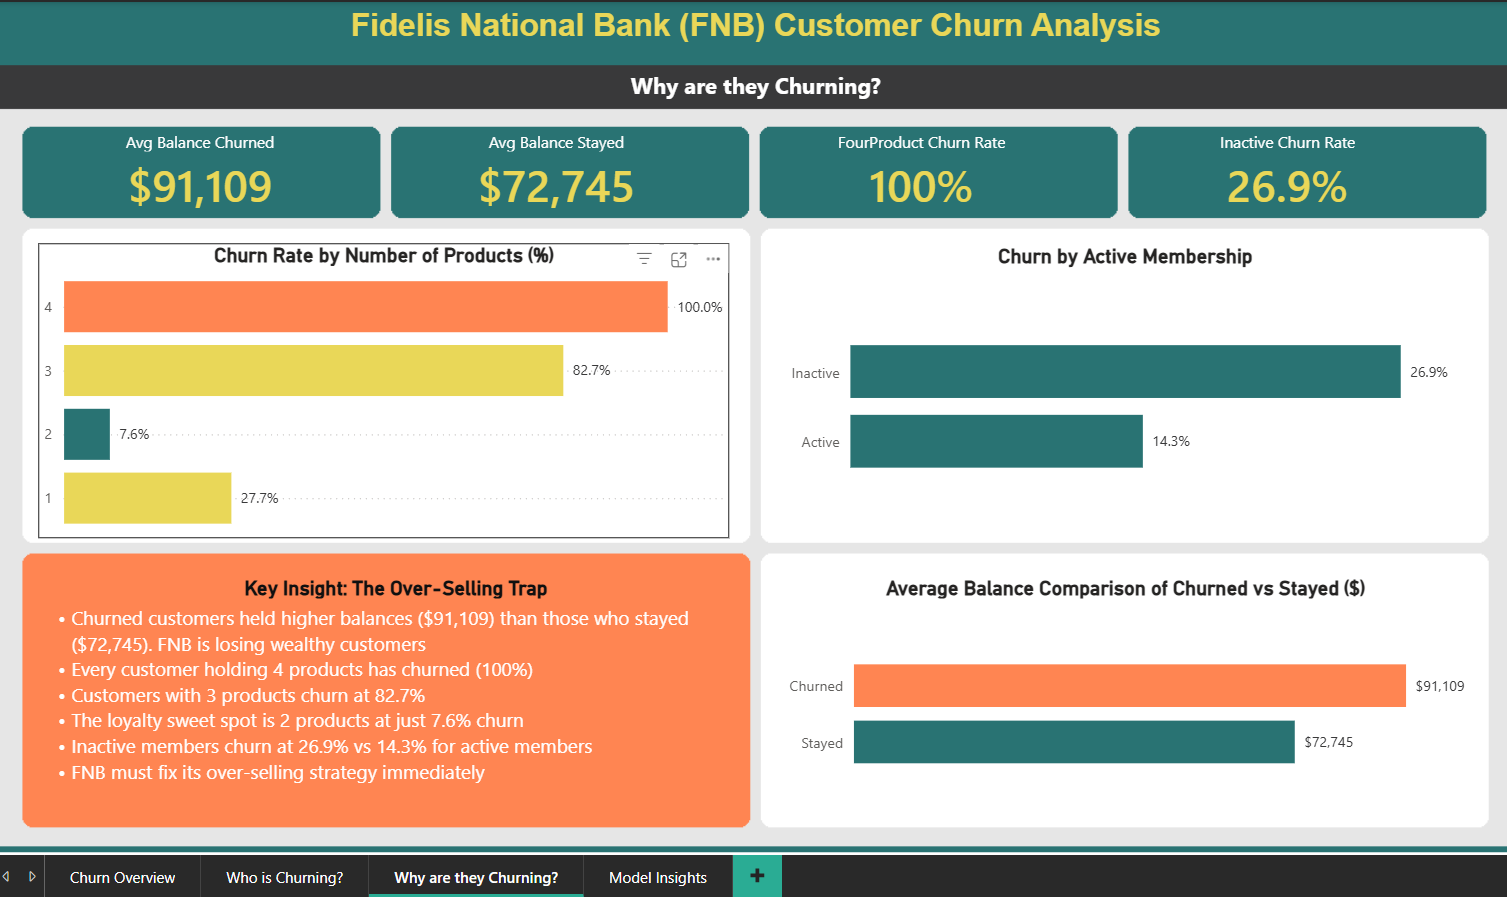

Layout of this report page (visuals, bound fields, positions):
{"tool":"powerbi","page":{"name":"Why are they Churning?","canvas":[1280,720],"ordinal":2},"visuals":[{"type":"textbox","box":[0,0,1280.2,52.3],"z":0},{"type":"textbox","box":[0,52.3,1280.2,37.2],"z":1000},{"type":"cardVisual","fields":{"Data":["Churn_Modelling.Avg Balance Stayed"]},"box":[375.6,95.3,193,97.7],"z":2000},{"type":"cardVisual","fields":{"Data":["Churn_Modelling.FourProduct Churn Rate"]},"box":[676.7,95.3,207,97.7],"z":3000},{"type":"cardVisual","fields":{"Data":["Churn_Modelling.Inactive Churn Rate"]},"box":[991.9,95.3,193,97.7],"z":4000},{"type":"cardVisual","fields":{"Data":["Churn_Modelling.Avg Balance Churned"]},"box":[74.4,95.3,193,97.7],"z":5000},{"type":"clusteredBarChart","title":"Churn by Active Membership ","fields":{"Y":["Churn_Modelling.Churn Rate"],"Category":["Churn_Modelling.MemberStatus"]},"box":[660.5,204.7,583.7,248.8],"z":6000},{"type":"textbox","title":"Key Insight: The Over-Selling Trap","box":[33.7,483.7,605.8,208.1],"z":7000},{"type":"clusteredBarChart","title":"Churn Rate by Number of Products (%)","fields":{"Y":["Churn_Modelling.Churn Rate"],"Category":["Churn_Modelling.NumOfProducts"]},"box":[34.3,203.1,583.2,249.7],"z":8000},{"type":"clusteredBarChart","title":"Average Balance Comparison of Churned vs Stayed ($)","fields":{"Category":["BalanceComparison.Status"],"Y":["Sum(BalanceComparison.Average Balance)"]},"box":[660.5,483.7,583.7,208.1],"z":9001}]}

Visuals, with their boxes on the page's 1280x720 design canvas (x1, y1, x2, y2). These are canvas units, not pixel positions in the 1507x897 screenshot, which may show the page scaled, cropped or inside an application window:
textbox: (left=0, top=0, right=1280, bottom=52)
textbox: (left=0, top=52, right=1280, bottom=90)
cardVisual - Churn_Modelling.Avg Balance Stayed: (left=376, top=95, right=569, bottom=193)
cardVisual - Churn_Modelling.FourProduct Churn Rate: (left=677, top=95, right=884, bottom=193)
cardVisual - Churn_Modelling.Inactive Churn Rate: (left=992, top=95, right=1185, bottom=193)
cardVisual - Churn_Modelling.Avg Balance Churned: (left=74, top=95, right=267, bottom=193)
"Churn by Active Membership " clusteredBarChart: (left=660, top=205, right=1244, bottom=454)
"Key Insight: The Over-Selling Trap" textbox: (left=34, top=484, right=640, bottom=692)
"Churn Rate by Number of Products (%)" clusteredBarChart: (left=34, top=203, right=618, bottom=453)
"Average Balance Comparison of Churned vs Stayed ($)" clusteredBarChart: (left=660, top=484, right=1244, bottom=692)
